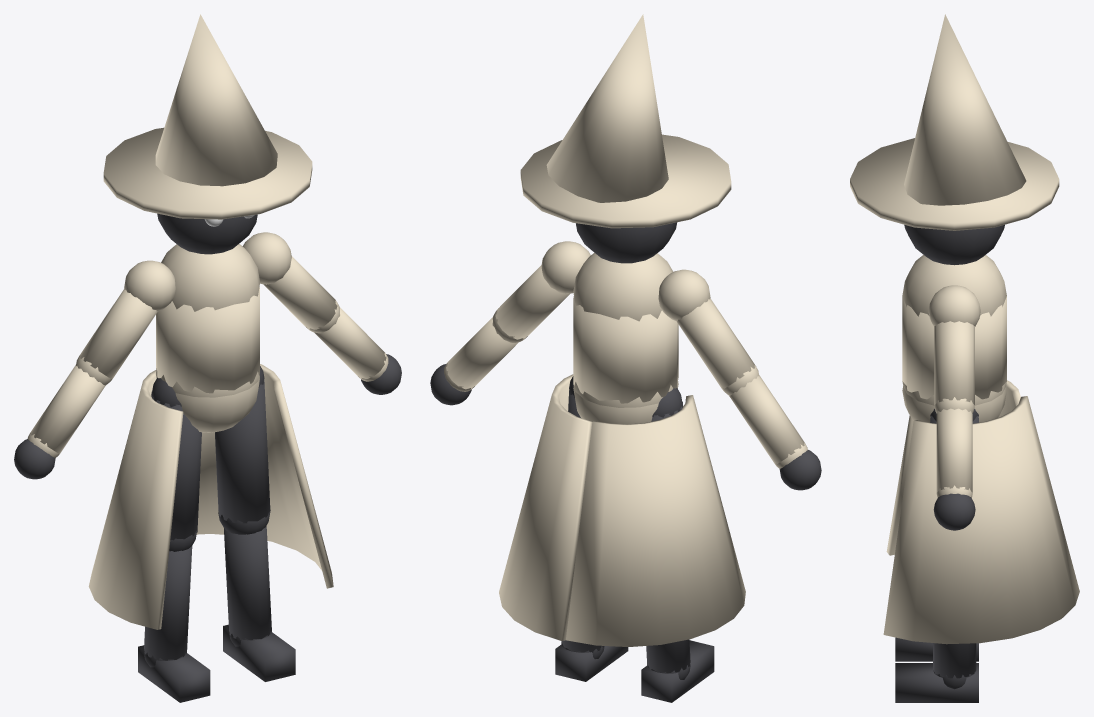
Rendered from traveler_apose.glb.
3 renders of one model, left to right at view 1: azimuth 30°, elevation 25°; view 2: azimuth 150°, elevation 25°; view 3: azimuth 270°, elevation 25°, orthographic.
Parts seen in each view (by area): view 1: Traveler; view 2: Traveler; view 3: Traveler.
Boxes of the visible parts, bbox=[...] form: Traveler: bbox=[14, 14, 401, 702]; Traveler: bbox=[430, 14, 821, 702]; Traveler: bbox=[850, 14, 1079, 702].
Bounding box in the file's own units: 1.26 × 2.07 × 0.6593.
